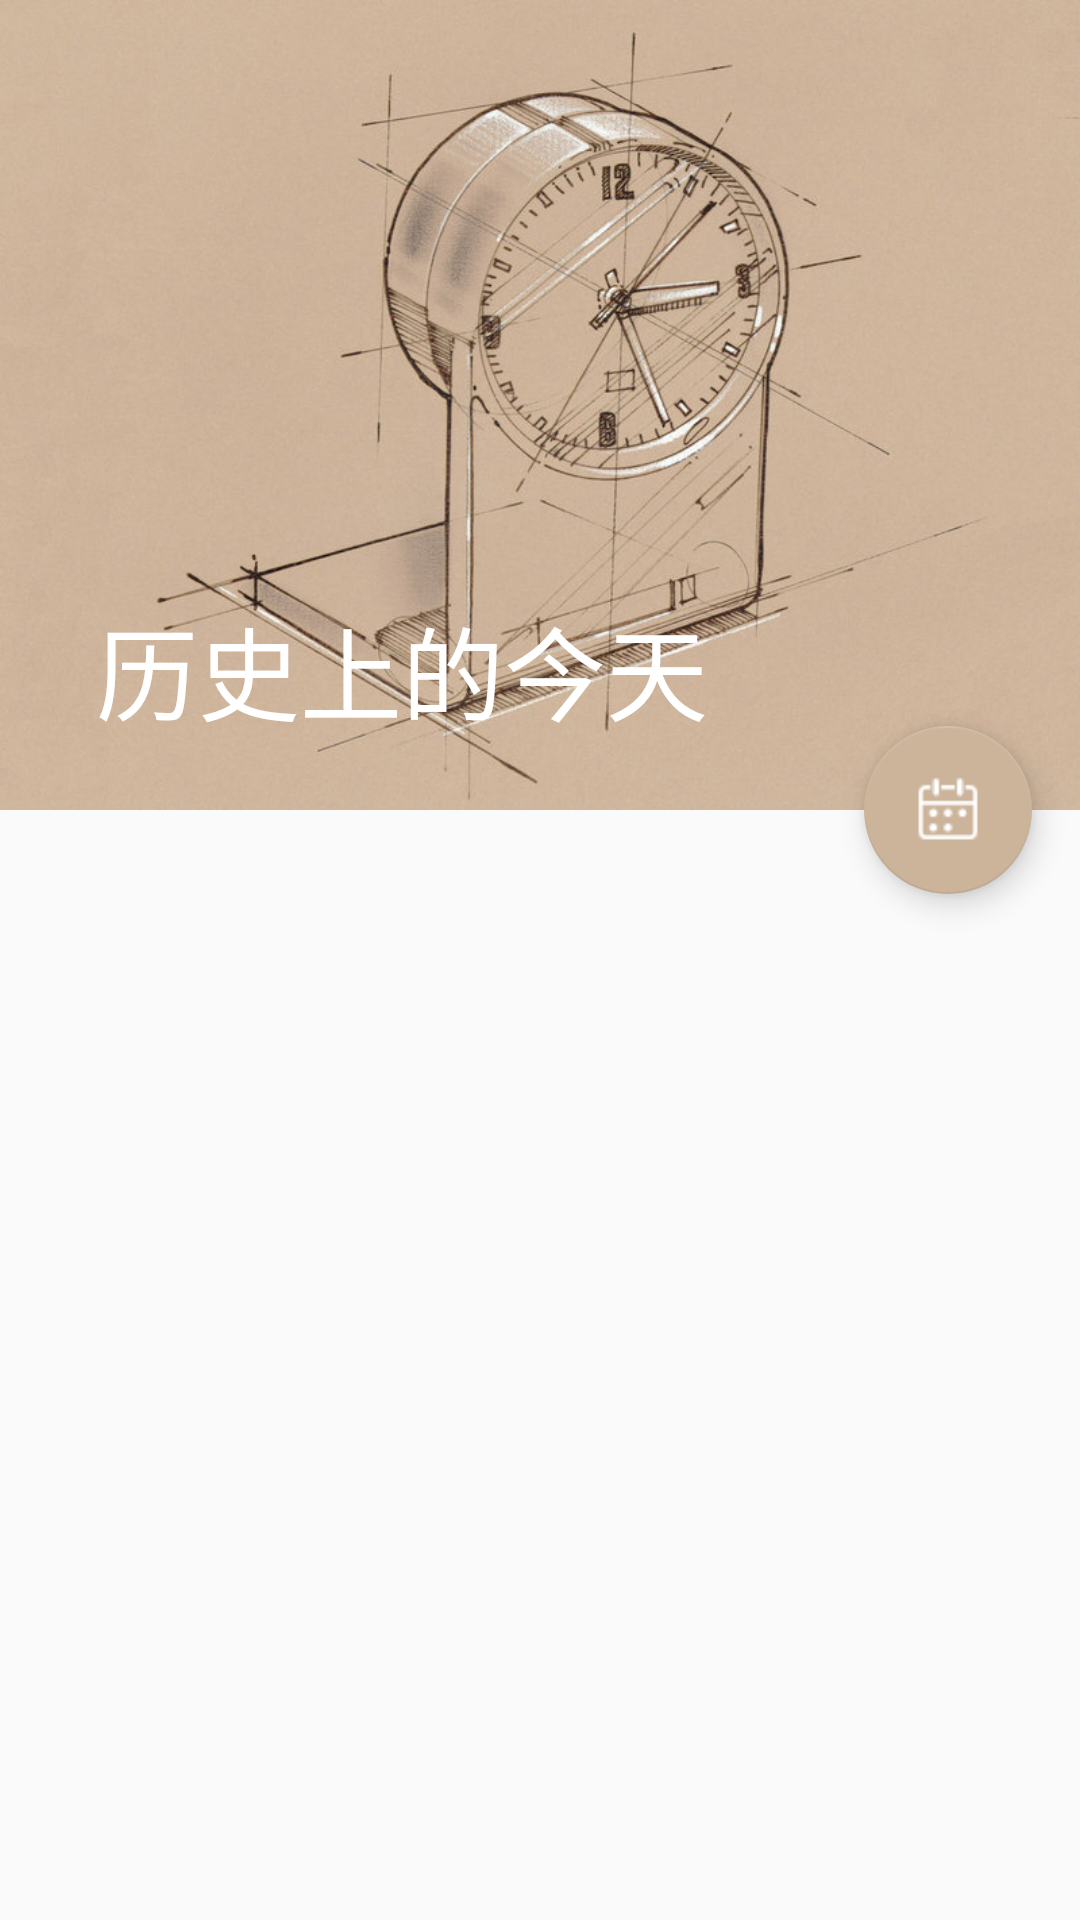

Where to tap for icons on this 1080 x 1920 app screen, as (x=x, y=y):
calendar: (x=948, y=810)
